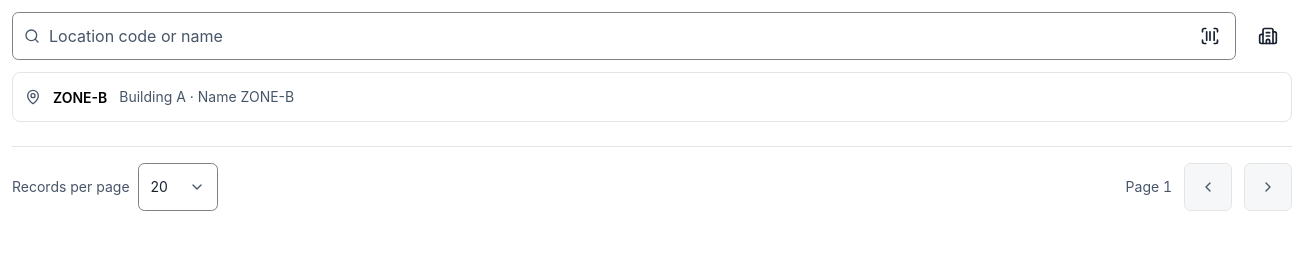
reports network failures and retains typing and scan retry
Click the button named "Scan code": (1210, 36) [1186,12,1234,60]
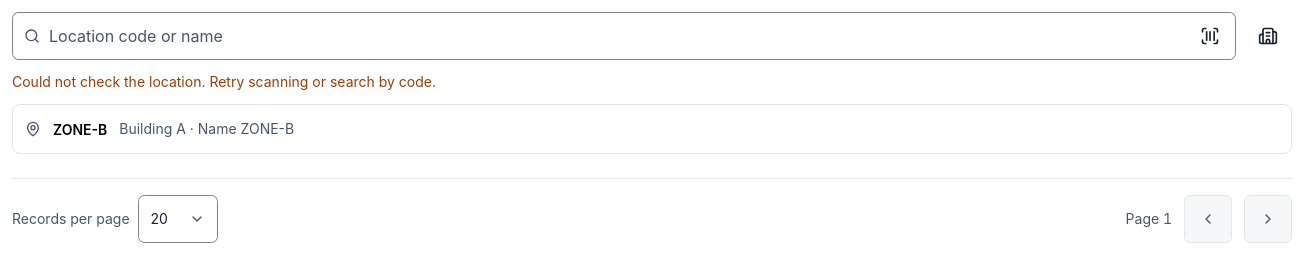
Expected: the field named "Search location" is enabled, [12,12,1236,60]
Result: the text "Could not check the location. Retry scanning or search by code." is shown at [12,73,436,90]
